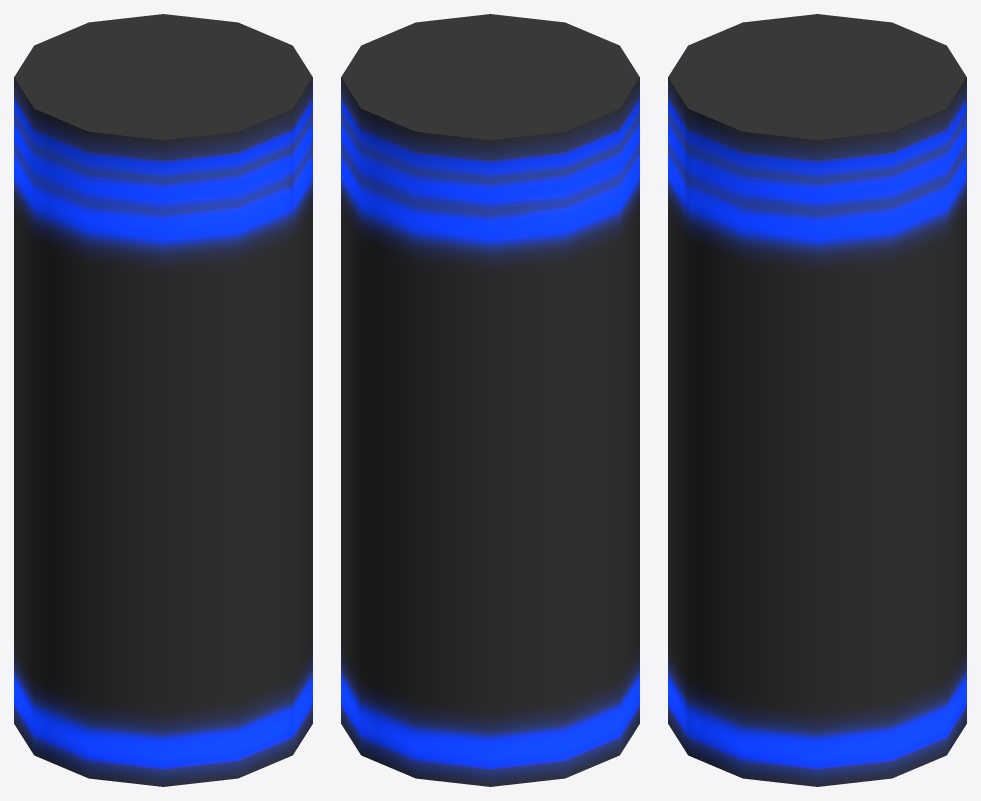
The model's file is Kabe_C_01.fbx.
The picture shows the model from 3 angles, left to right: view 1: azimuth 30°, elevation 25°; view 2: azimuth 150°, elevation 25°; view 3: azimuth 270°, elevation 25°; orthographic projection.
Parts seen in each view (by area): view 1: Kabe_C_01; view 2: Kabe_C_01; view 3: Kabe_C_01.
Boxes of the visible parts, x1,y1,x2,y2 form: Kabe_C_01: (14, 14, 312, 786); Kabe_C_01: (341, 14, 639, 786); Kabe_C_01: (668, 14, 966, 786).
Bounding box in the file's own units: 211 × 503 × 211.
Materials: 1 (1 with a texture image).
